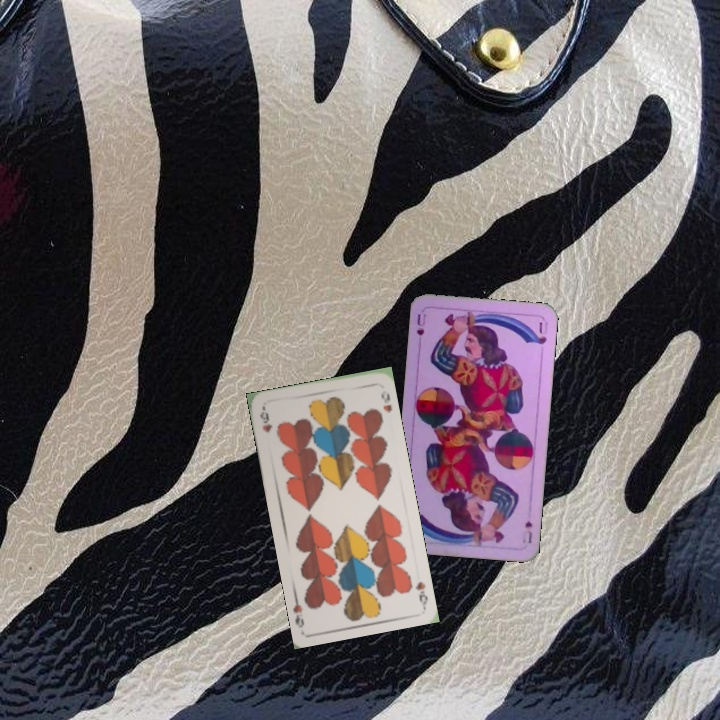H9: (256, 405, 275, 435), (411, 578, 430, 608)
SU: (412, 310, 429, 348), (521, 517, 535, 546)
